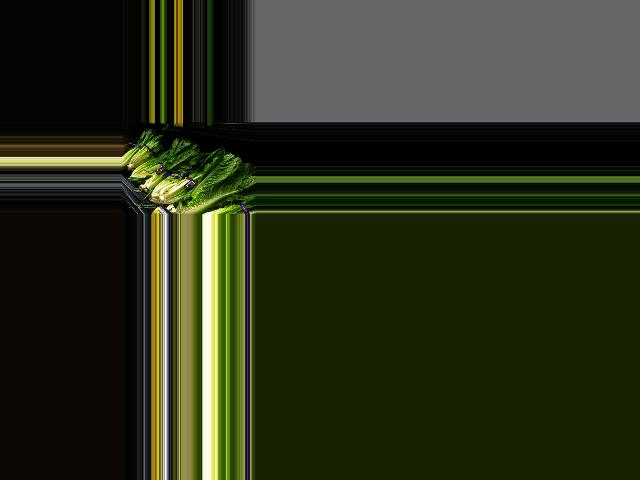lettuce: (177, 156, 254, 210)
